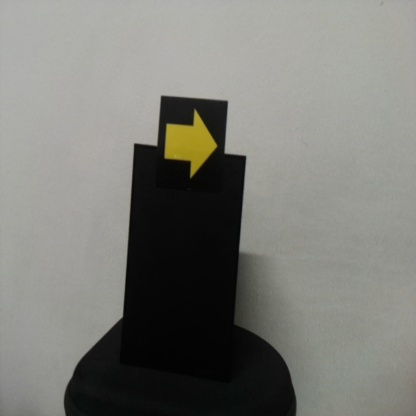id_3: (160, 100, 225, 188)
